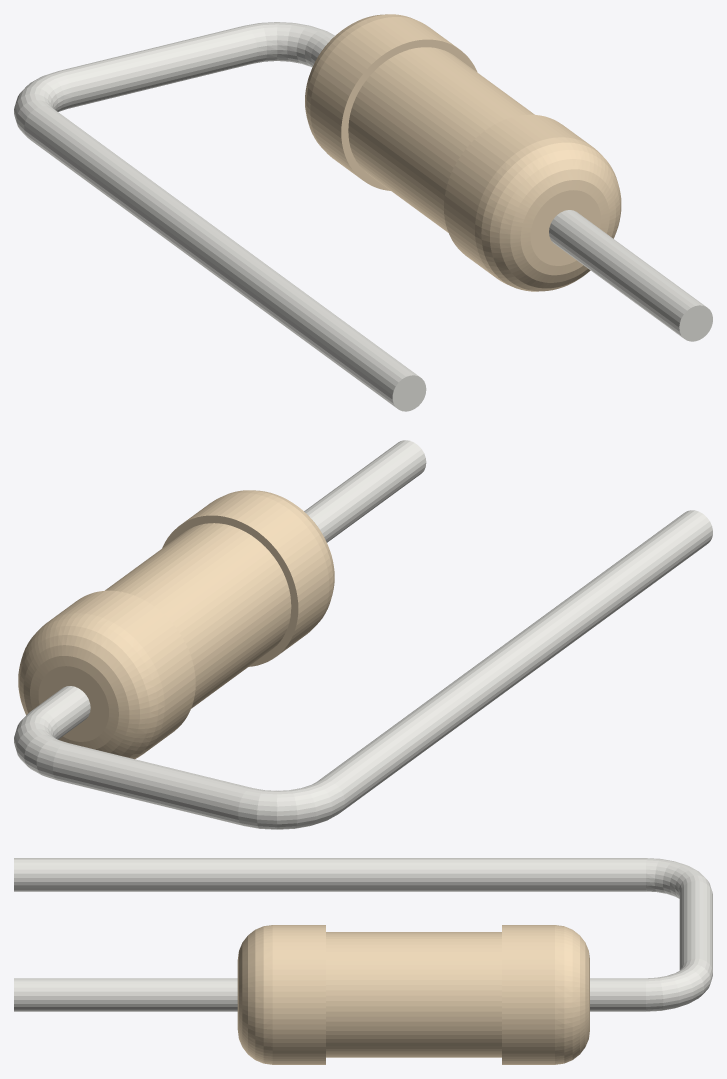
Rendered from R_Axial_DIN0207_L6.3mm_D2.5mm_P5.08mm_Vertical.glb.
3 renders of one model, top to bottom at view 1: azimuth 30°, elevation 25°; view 2: azimuth 150°, elevation 25°; view 3: azimuth 270°, elevation 25°, orthographic. The views are drawn at different scales.
Parts seen in each view (by area): view 1: Shape_IndexedFaceSet.015, Shape_IndexedFaceSet.004, Shape_IndexedFaceSet.001, Shape_IndexedFaceSet.013, Shape_IndexedFaceSet.005, Shape_IndexedFaceSet, Shape_IndexedFaceSet.008, Shape_IndexedFaceSet.012, Shape_IndexedFaceSet.003, Shape_IndexedFaceSet.006, Shape_IndexedFaceSet.014, Shape_IndexedFaceSet.009 (+2 smaller); view 2: Shape_IndexedFaceSet.015, Shape_IndexedFaceSet.004, Shape_IndexedFaceSet.009, Shape_IndexedFaceSet.013, Shape_IndexedFaceSet.008, Shape_IndexedFaceSet, Shape_IndexedFaceSet.005, Shape_IndexedFaceSet.014, Shape_IndexedFaceSet.010, Shape_IndexedFaceSet.012, Shape_IndexedFaceSet.002, Shape_IndexedFaceSet.011 (+1 smaller); view 3: Shape_IndexedFaceSet.004, Shape_IndexedFaceSet.015, Shape_IndexedFaceSet.005, Shape_IndexedFaceSet, Shape_IndexedFaceSet.008, Shape_IndexedFaceSet.001, Shape_IndexedFaceSet.009, Shape_IndexedFaceSet.013, Shape_IndexedFaceSet.012, Shape_IndexedFaceSet.011, Shape_IndexedFaceSet.014.
Boxes of the visible parts, x1,y1,x2,y2 form: Shape_IndexedFaceSet.015: (24, 106, 420, 408); Shape_IndexedFaceSet.004: (348, 47, 534, 232); Shape_IndexedFaceSet.001: (475, 137, 621, 291); Shape_IndexedFaceSet.013: (59, 26, 257, 108); Shape_IndexedFaceSet.005: (549, 210, 705, 337); Shape_IndexedFaceSet: (444, 114, 590, 277); Shape_IndexedFaceSet.008: (310, 17, 456, 178); Shape_IndexedFaceSet.012: (244, 22, 334, 67); Shape_IndexedFaceSet.003: (530, 190, 600, 265); Shape_IndexedFaceSet.006: (341, 39, 477, 190); Shape_IndexedFaceSet.014: (14, 71, 72, 136); Shape_IndexedFaceSet.009: (305, 14, 417, 148); Shape_IndexedFaceSet.015: (318, 510, 712, 812); Shape_IndexedFaceSet.004: (105, 523, 291, 708); Shape_IndexedFaceSet.009: (18, 613, 164, 759); Shape_IndexedFaceSet.013: (53, 742, 251, 825); Shape_IndexedFaceSet.008: (50, 590, 195, 753); Shape_IndexedFaceSet: (181, 493, 329, 654); Shape_IndexedFaceSet.005: (304, 440, 426, 542); Shape_IndexedFaceSet.014: (238, 780, 344, 829); Shape_IndexedFaceSet.010: (38, 666, 108, 741); Shape_IndexedFaceSet.012: (14, 709, 67, 780); Shape_IndexedFaceSet.002: (162, 515, 298, 666); Shape_IndexedFaceSet.011: (31, 686, 90, 739); Shape_IndexedFaceSet.004: (326, 932, 501, 1057); Shape_IndexedFaceSet.015: (14, 858, 645, 891); Shape_IndexedFaceSet.005: (14, 978, 237, 1011); Shape_IndexedFaceSet: (272, 925, 325, 1064); Shape_IndexedFaceSet.008: (502, 925, 554, 1064); Shape_IndexedFaceSet.001: (237, 925, 272, 1064); Shape_IndexedFaceSet.009: (555, 925, 589, 1064); Shape_IndexedFaceSet.013: (679, 881, 712, 970); Shape_IndexedFaceSet.012: (646, 958, 712, 1011); Shape_IndexedFaceSet.011: (590, 978, 645, 1011); Shape_IndexedFaceSet.014: (646, 858, 711, 898).
Size of the model in its own units: 2.61 by 0.984 by 4.92.
